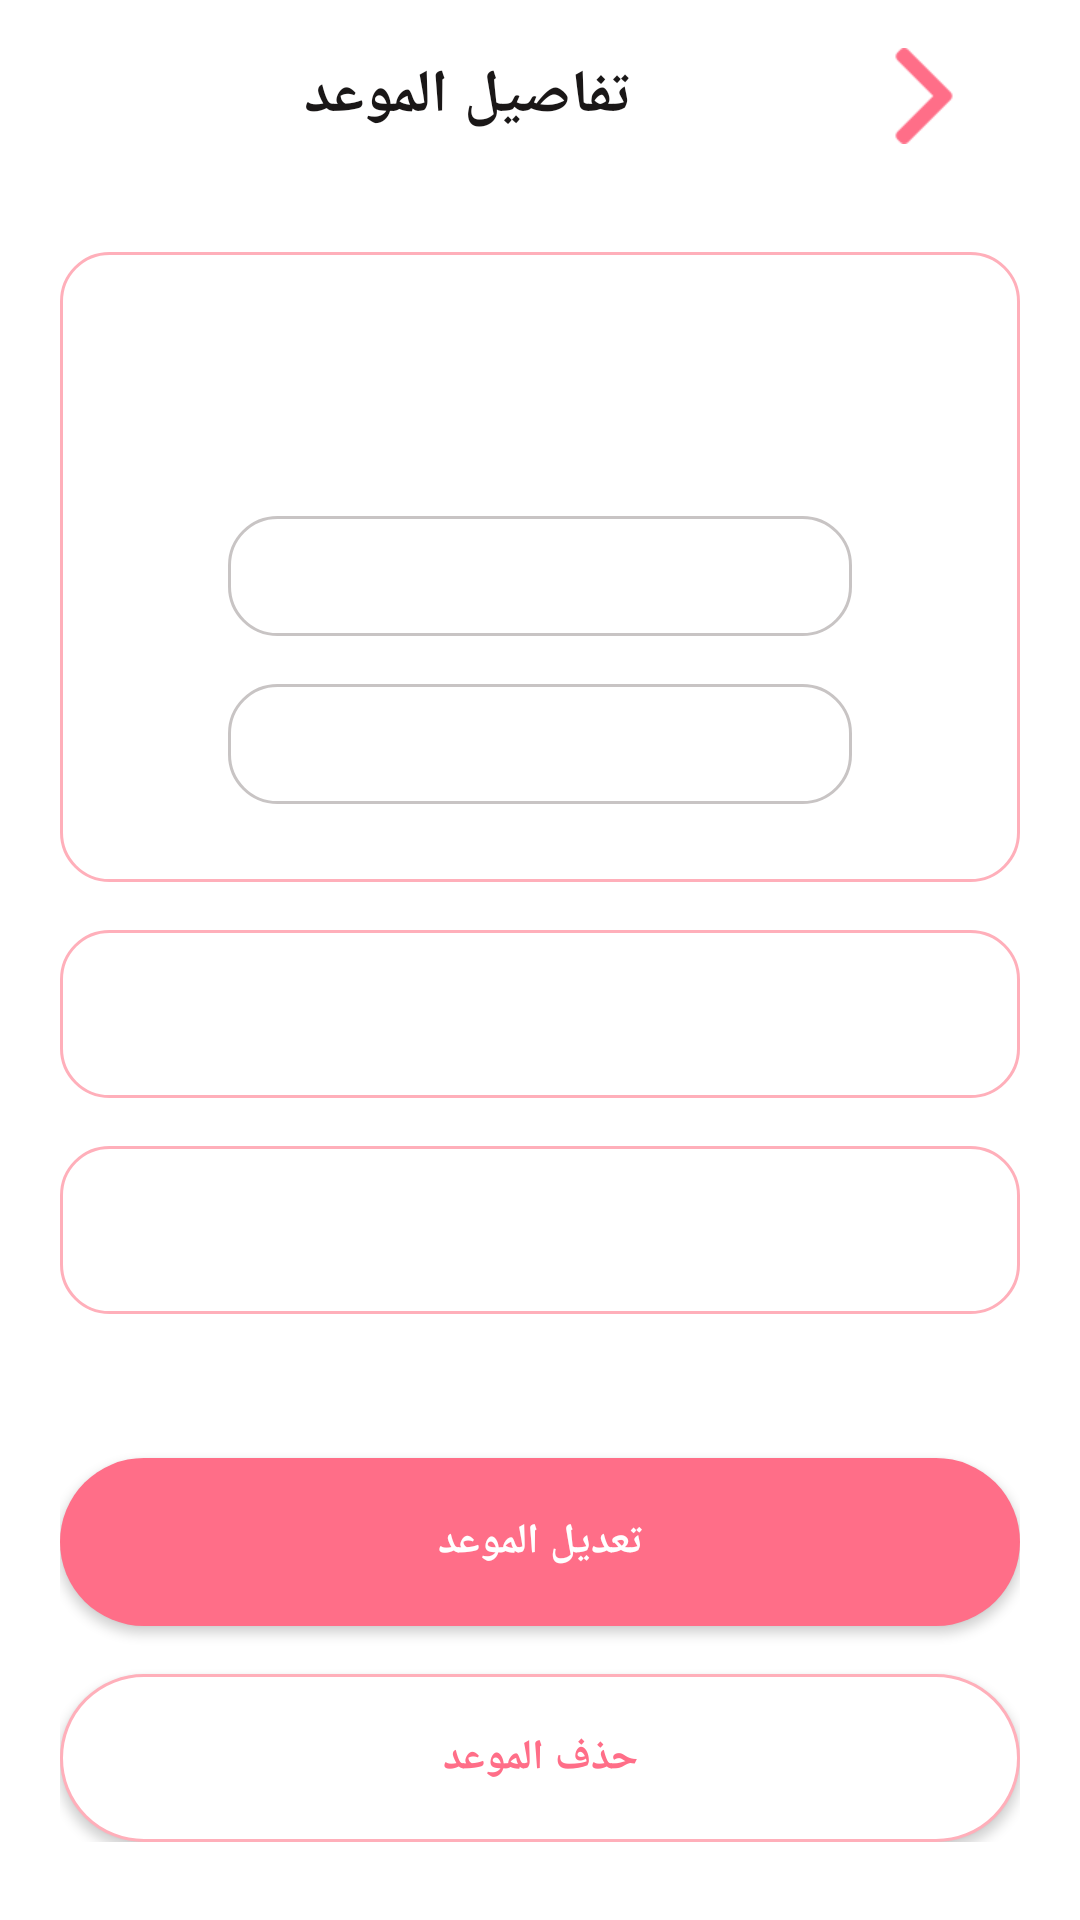

Icons on this 1080w x 1920h Android screen, each with the point to tap as (x,y):
rightarrow: (924,96)
